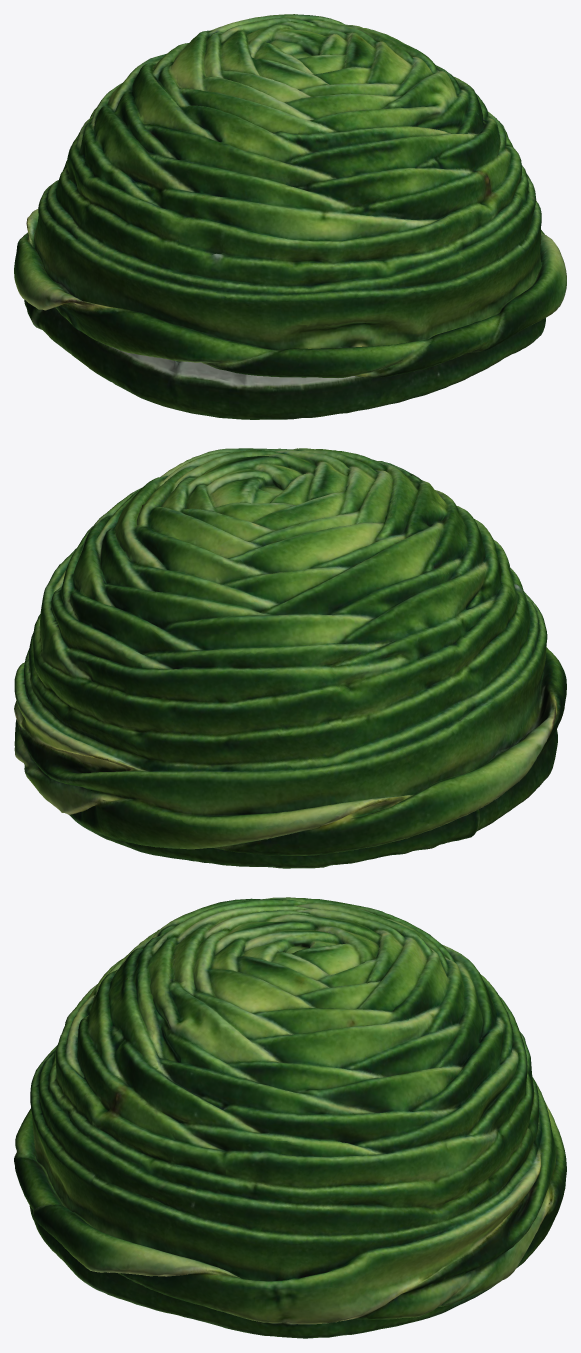
Rendered from green-wrap-hat-made-by-vanilla-beane-150k-2048-medium-100k-2048_std_draco.glb.
3 renders of one model, top to bottom at view 1: azimuth 30°, elevation 25°; view 2: azimuth 150°, elevation 25°; view 3: azimuth 270°, elevation 25°, orthographic. The views are drawn at different scales.
Bounding box in the file's own units: 0.2092 × 0.1185 × 0.1983.
1 material, 1 textured.
